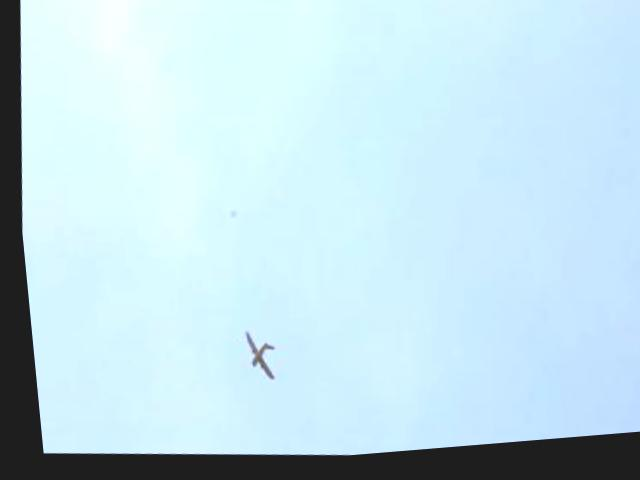uav: (234, 330, 275, 387)
